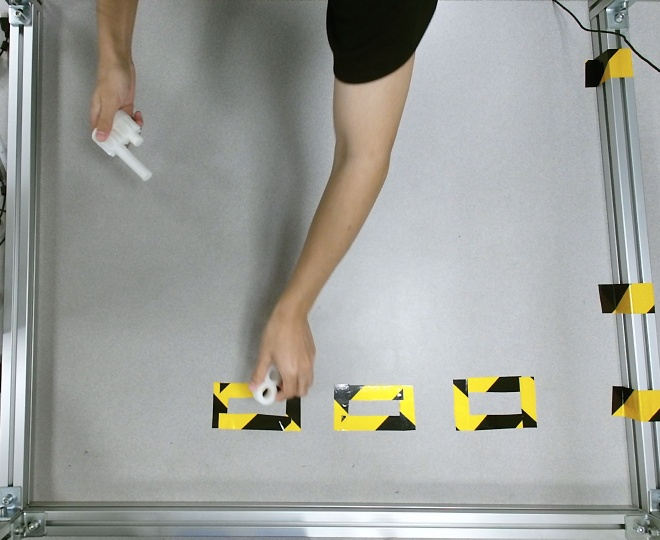stage_3: (91, 111, 152, 180)
